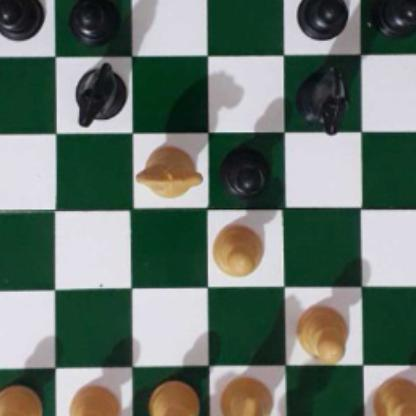black-knight: (295, 58, 348, 131), (71, 58, 124, 121)
black-pawn: (219, 140, 274, 198), (70, 0, 118, 42), (295, 0, 348, 38), (0, 0, 41, 41), (374, 0, 416, 36)
white-knight: (132, 144, 198, 198), (218, 372, 277, 416)
white-pawn: (292, 300, 348, 362), (210, 221, 263, 276), (145, 377, 198, 416), (370, 372, 416, 416), (65, 378, 118, 416), (0, 380, 41, 416)
